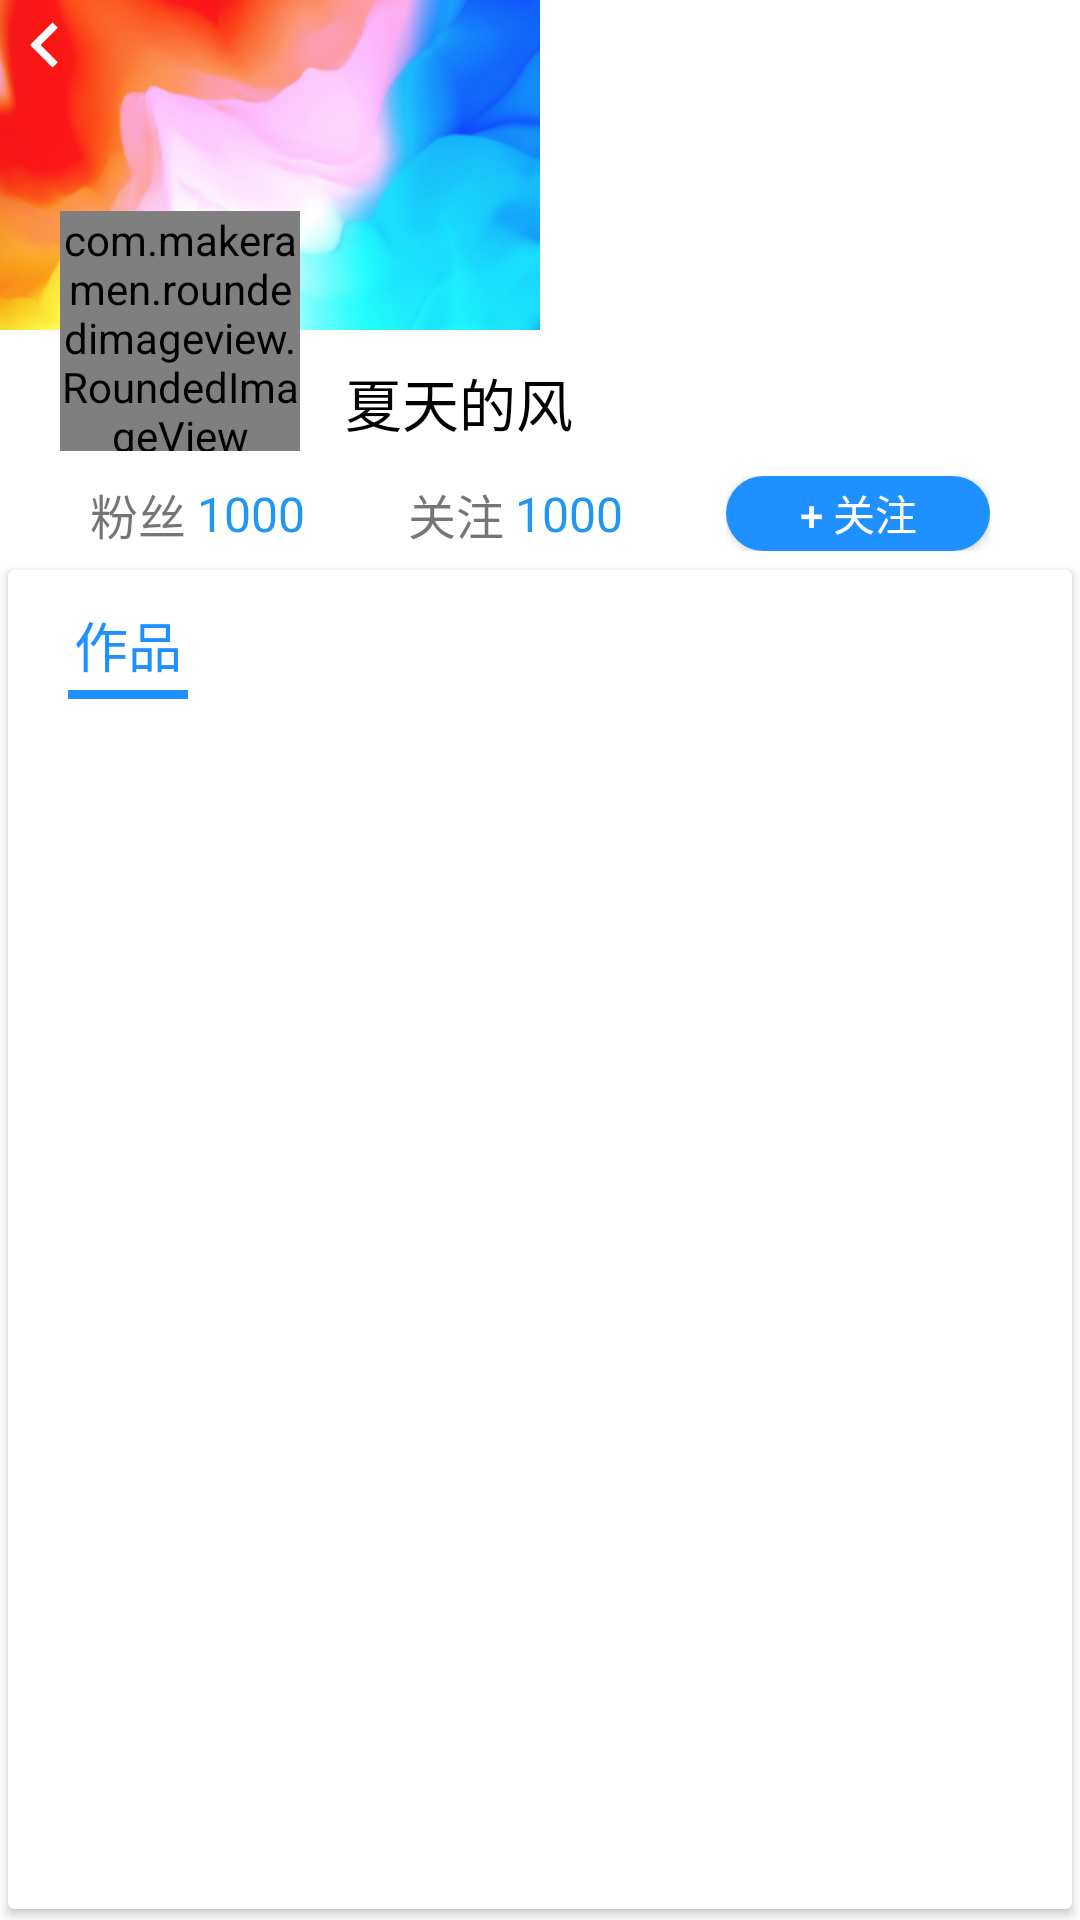

Point at icon controls on the screen. Image size 1080w x 1920h, points as (x=x, y=y).
back: (x=41, y=45)
